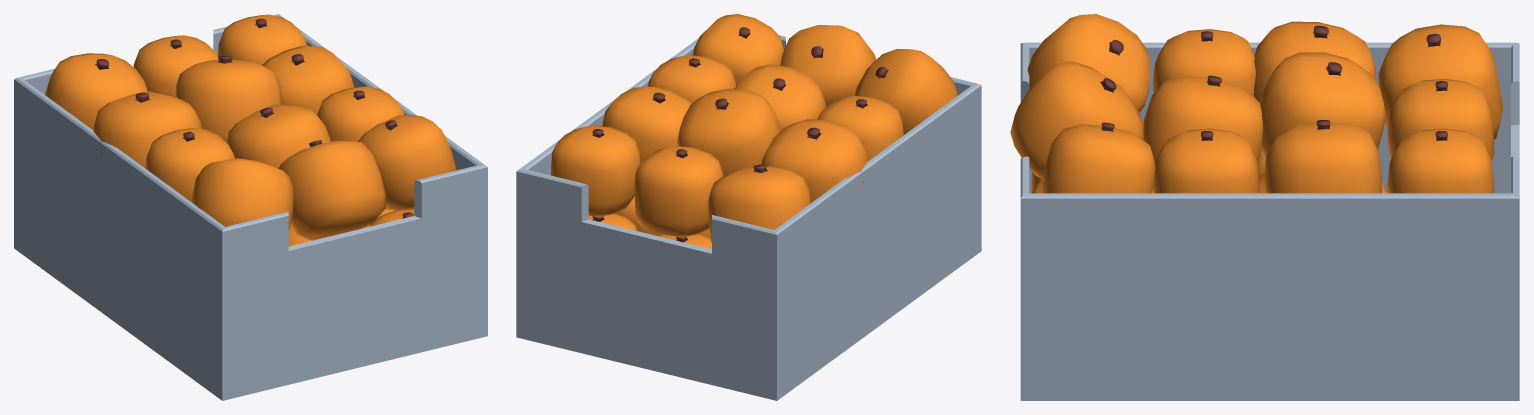
Rendered from CaseOranges.fbx.
3 renders of one model, left to right at view 1: azimuth 30°, elevation 25°; view 2: azimuth 150°, elevation 25°; view 3: azimuth 270°, elevation 25°, orthographic. The views are drawn at different scales.
Parts seen in each view (by area): view 1: Cube.006, Cube.004; view 2: Cube.006, Cube.004; view 3: Cube.006, Cube.004.
Part boxes in pixels (<box>): Cube.006: <box>14,14,487,400</box>; Cube.004: <box>45,14,456,246</box>; Cube.006: <box>516,35,981,400</box>; Cube.004: <box>551,14,957,249</box>; Cube.006: <box>1020,42,1519,400</box>; Cube.004: <box>1010,14,1502,193</box>.
Size of the model in its own units: 1377 by 1075 by 1910.
